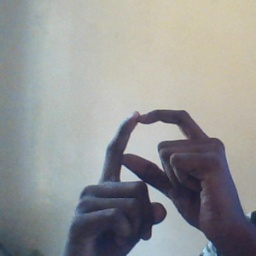D: (89, 104, 222, 224)
